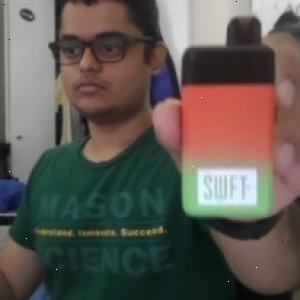Swift-E-Ciggirate: (176, 10, 280, 223)
